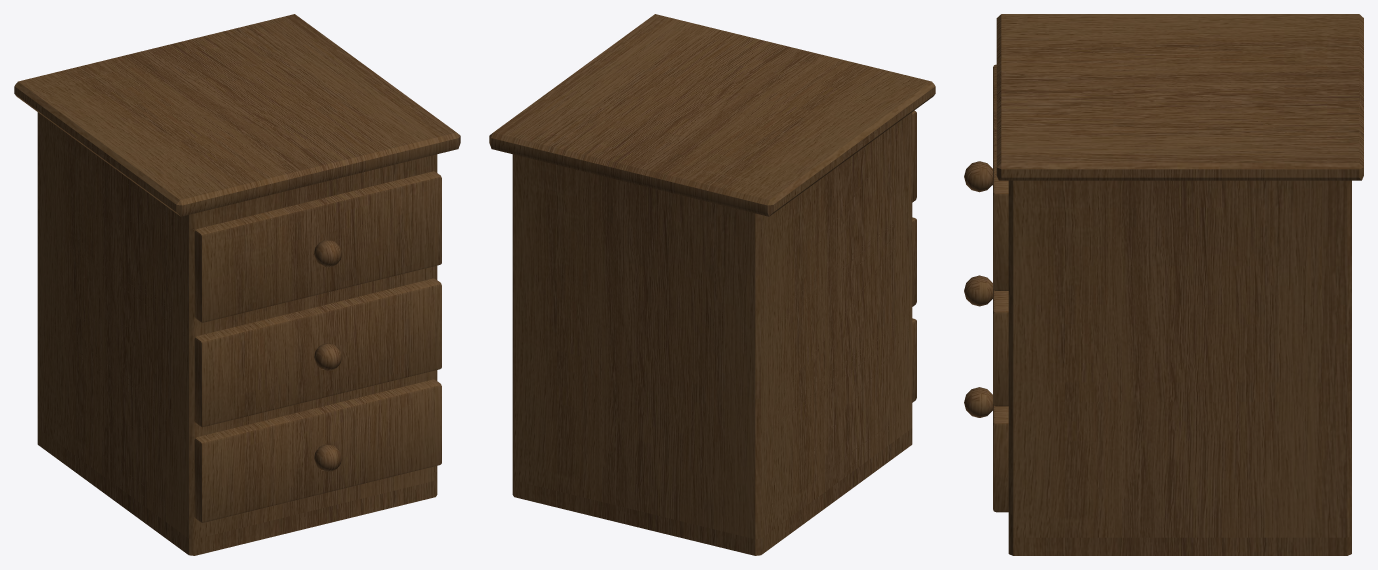
The model's file is Drawer.fbx.
3 views of the same model, side by side, from view 1: azimuth 30°, elevation 25°; view 2: azimuth 150°, elevation 25°; view 3: azimuth 270°, elevation 25° (orthographic). The views are drawn at different scales.
Visible parts, largest first — view 1: Drawer; view 2: Drawer; view 3: Drawer.
Boxes of the visible parts, x1,y1,x2,y2 form: Drawer: (14,14,460,555); Drawer: (489,14,935,555); Drawer: (964,14,1363,555).
Size of the model in its own units: 7.77 by 9.47 by 8.57.
